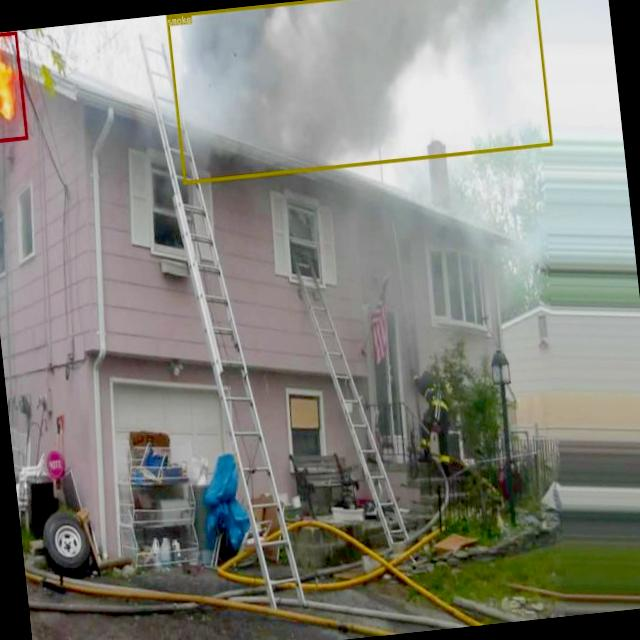fire: (0, 31, 27, 143)
smoke: (165, 0, 552, 182)
